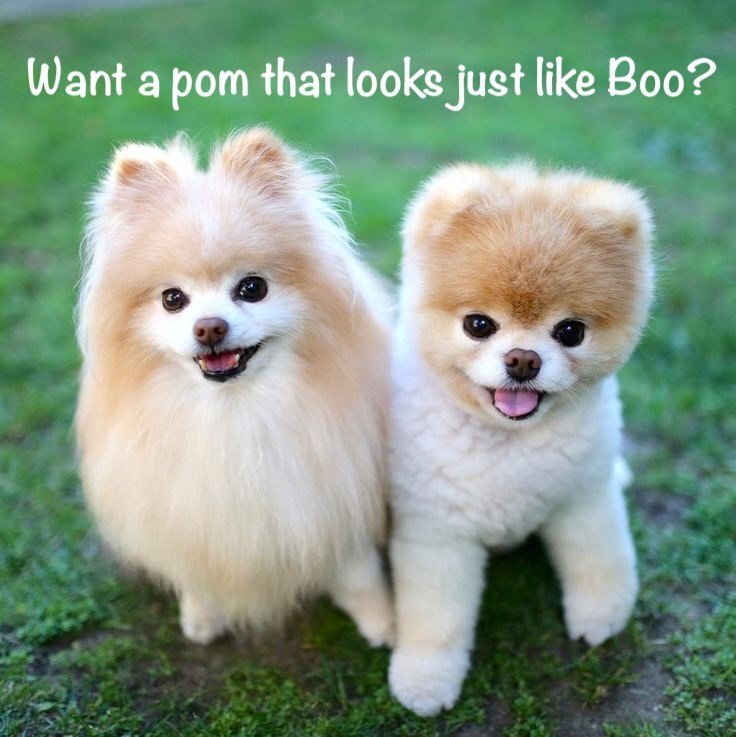pomeranian: (77, 129, 377, 667), (389, 146, 647, 718)
